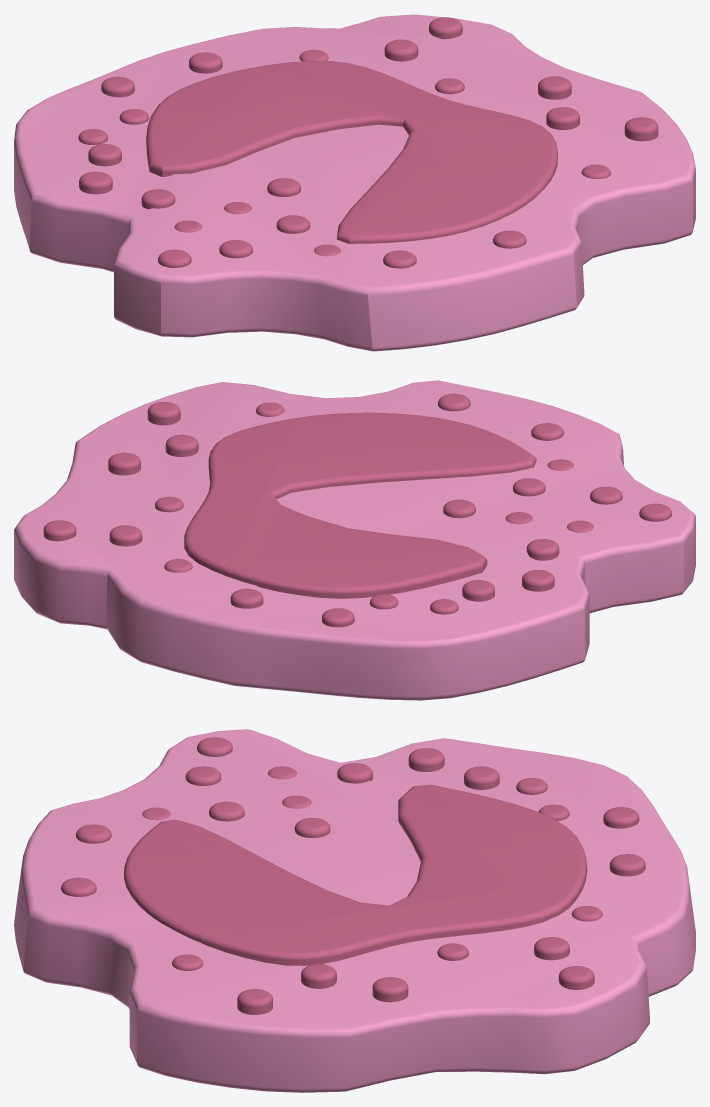
The model's file is Eosinofil.fbx.
3 views of the same model, one above another, from view 1: azimuth 30°, elevation 25°; view 2: azimuth 150°, elevation 25°; view 3: azimuth 270°, elevation 25° (orthographic). The views are drawn at different scales.
Parts seen in each view (by area): view 1: Cylinder, Cylinder.001, Cylinder.018, Cylinder.019, Cylinder.020, Cylinder.009, Cylinder.023, Cylinder.011, Cylinder.022, Cylinder.025, Cylinder.012, Cylinder.008 (+4 smaller); view 2: Cylinder, Cylinder.001, Cylinder.018, Cylinder.019, Cylinder.020, Cylinder.009, Cylinder.011, Cylinder.008, Cylinder.023, Cylinder.022, Cylinder.025, Cylinder.012 (+4 smaller); view 3: Cylinder, Cylinder.001, Cylinder.018, Cylinder.019, Cylinder.020, Cylinder.009, Cylinder.022, Cylinder.011, Cylinder.023, Cylinder.025, Cylinder.012, Cylinder.008 (+6 smaller).
Part boxes in pixels (x1,y1,x2,y2): Cylinder: [14, 14, 695, 351]; Cylinder.001: [146, 60, 557, 243]; Cylinder.018: [624, 117, 658, 141]; Cylinder.019: [538, 76, 571, 99]; Cylinder.020: [546, 107, 579, 129]; Cylinder.009: [79, 171, 112, 194]; Cylinder.023: [384, 39, 418, 61]; Cylinder.011: [88, 144, 121, 166]; Cylinder.022: [429, 17, 462, 39]; Cylinder.025: [189, 52, 222, 73]; Cylinder.012: [101, 76, 134, 97]; Cylinder.008: [141, 189, 175, 209]; Cylinder: [14, 380, 695, 700]; Cylinder.001: [184, 412, 536, 598]; Cylinder.018: [147, 402, 180, 425]; Cylinder.019: [108, 452, 140, 475]; Cylinder.020: [165, 434, 198, 456]; Cylinder.009: [522, 570, 554, 591]; Cylinder.011: [462, 580, 494, 601]; Cylinder.008: [526, 539, 559, 560]; Cylinder.023: [109, 525, 142, 546]; Cylinder.022: [43, 520, 76, 541]; Cylinder.025: [230, 588, 263, 608]; Cylinder.012: [322, 608, 354, 627]; Cylinder: [14, 729, 695, 1092]; Cylinder.001: [124, 784, 587, 965]; Cylinder.018: [237, 989, 272, 1014]; Cylinder.019: [372, 977, 408, 1002]; Cylinder.020: [301, 964, 336, 988]; Cylinder.009: [408, 748, 444, 771]; Cylinder.022: [558, 966, 594, 989]; Cylinder.011: [464, 766, 499, 789]; Cylinder.023: [534, 937, 569, 960]; Cylinder.025: [609, 854, 645, 876]; Cylinder.012: [603, 807, 639, 828]; Cylinder.008: [337, 763, 372, 783].
Bounding box in the file's own units: 198 × 24.11 × 190.
